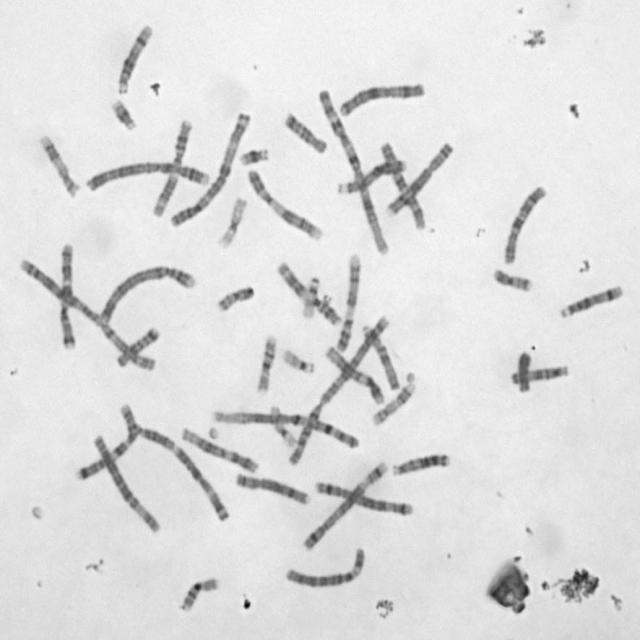A1: (314, 86, 391, 256), (209, 406, 361, 451)
A2: (15, 252, 158, 373), (288, 310, 392, 467)
A3: (167, 108, 251, 229), (169, 441, 230, 524)
B4: (95, 260, 198, 325), (82, 156, 213, 194)
B5: (300, 455, 391, 552), (312, 477, 415, 518)
C10: (376, 137, 427, 232), (501, 181, 549, 265)
C11: (274, 258, 343, 328), (149, 120, 195, 214)
C12: (178, 422, 260, 475), (322, 342, 386, 406)
C6: (91, 430, 162, 535), (281, 542, 368, 590)
C7: (73, 400, 139, 483), (55, 238, 77, 352)
C8: (382, 138, 455, 216), (231, 470, 311, 508)
C9: (245, 165, 324, 243), (332, 249, 363, 354)
D13: (332, 154, 408, 196), (388, 449, 451, 477)
D14: (113, 21, 154, 96), (556, 281, 624, 320)
D15: (359, 320, 402, 391), (508, 361, 570, 387)
E16: (177, 574, 221, 614), (254, 332, 278, 394)
E17: (37, 131, 81, 199), (369, 379, 415, 426)
E18: (113, 323, 162, 369), (282, 109, 328, 155)
F19: (214, 193, 248, 249), (269, 403, 296, 450)
F20: (213, 282, 256, 314), (491, 265, 533, 294)
G21: (108, 96, 139, 133), (236, 143, 271, 169)
G22: (280, 345, 316, 374), (302, 275, 321, 318)
X: (335, 79, 426, 119)
Y: (511, 351, 536, 393)
